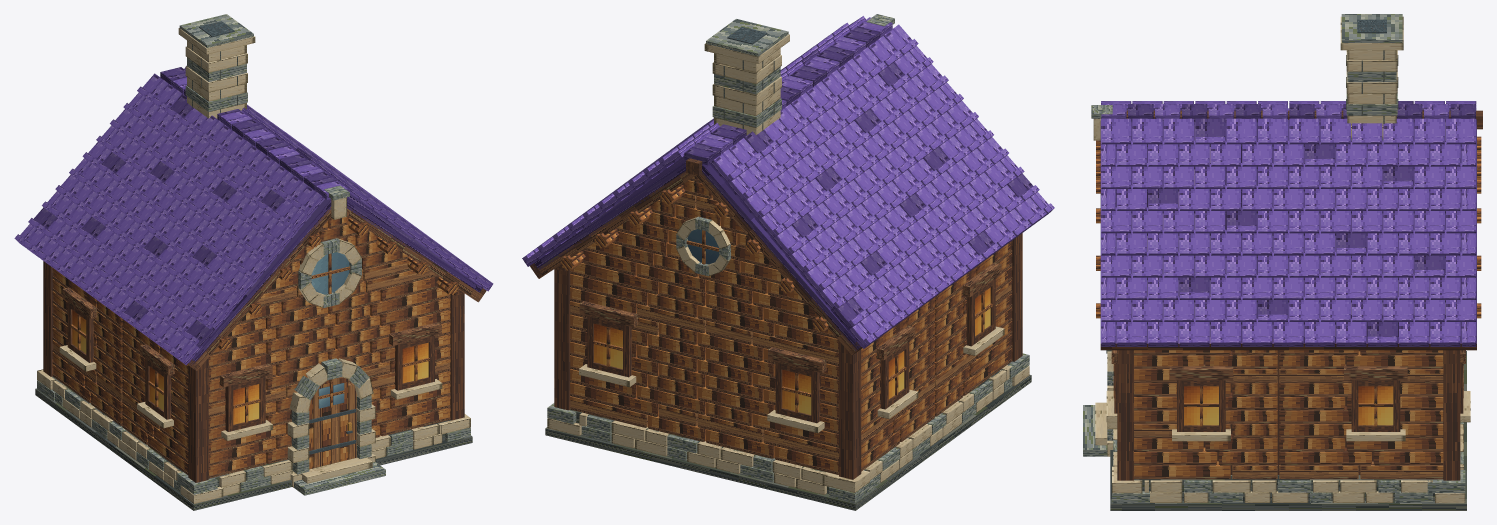
The model's file is seed.glb.
3 views of the same model, side by side, from view 1: azimuth 30°, elevation 25°; view 2: azimuth 150°, elevation 25°; view 3: azimuth 270°, elevation 25° (orthographic). The views are drawn at different scales.
Visible parts, largest first — view 1: roof_geometry, roof_light_geometry, oak_geometry, oak_light_geometry, wood_geometry, stone_warm_geometry, stone_light_geometry, wood_dark_geometry, roof_dark_geometry, wood_light_geometry, stone_dark_geometry, window_glow_geometry (+2 smaller); view 2: roof_geometry, oak_geometry, roof_light_geometry, oak_light_geometry, wood_geometry, stone_warm_geometry, wood_dark_geometry, roof_dark_geometry, stone_light_geometry, wood_light_geometry, stone_dark_geometry, window_glow_geometry (+1 smaller); view 3: roof_geometry, roof_light_geometry, oak_geometry, oak_light_geometry, stone_warm_geometry, wood_geometry, roof_dark_geometry, wood_dark_geometry, stone_light_geometry, stone_dark_geometry, wood_light_geometry, window_glow_geometry (+1 smaller).
Boxes of the visible parts, <box> form: roof_geometry: <box>14,65,491,364</box>; roof_light_geometry: <box>21,73,493,364</box>; oak_geometry: <box>53,216,450,475</box>; oak_light_geometry: <box>52,218,459,469</box>; wood_geometry: <box>52,206,482,478</box>; stone_warm_geometry: <box>37,28,470,503</box>; stone_light_geometry: <box>37,14,470,495</box>; wood_dark_geometry: <box>43,261,486,482</box>; roof_dark_geometry: <box>34,67,482,365</box>; wood_light_geometry: <box>53,259,450,467</box>; stone_dark_geometry: <box>35,44,472,510</box>; window_glow_geometry: <box>72,310,428,424</box>; roof_geometry: <box>524,16,1048,348</box>; oak_geometry: <box>570,176,1011,468</box>; roof_light_geometry: <box>522,34,1054,342</box>; oak_light_geometry: <box>560,180,1012,471</box>; wood_geometry: <box>538,171,1012,474</box>; stone_warm_geometry: <box>547,34,1029,494</box>; wood_dark_geometry: <box>530,158,1022,479</box>; roof_dark_geometry: <box>532,27,1033,350</box>; stone_light_geometry: <box>547,14,1029,503</box>; wood_light_geometry: <box>570,193,1011,458</box>; stone_dark_geometry: <box>545,60,1031,510</box>; window_glow_geometry: <box>594,287,990,414</box>; roof_geometry: <box>1101,101,1476,346</box>; roof_light_geometry: <box>1101,101,1476,346</box>; oak_geometry: <box>1113,350,1463,478</box>; oak_light_geometry: <box>1096,136,1481,469</box>; stone_warm_geometry: <box>1093,16,1470,503</box>; wood_geometry: <box>1111,350,1465,479</box>; roof_dark_geometry: <box>1100,101,1476,346</box>; wood_dark_geometry: <box>1100,110,1482,480</box>; stone_light_geometry: <box>1083,14,1465,503</box>; stone_dark_geometry: <box>1110,50,1466,510</box>; wood_light_geometry: <box>1134,369,1443,478</box>; window_glow_geometry: <box>1184,386,1393,425</box>.
Size of the model in its own units: 5.36 by 5.94 by 5.27.
15 materials, 15 textured.
